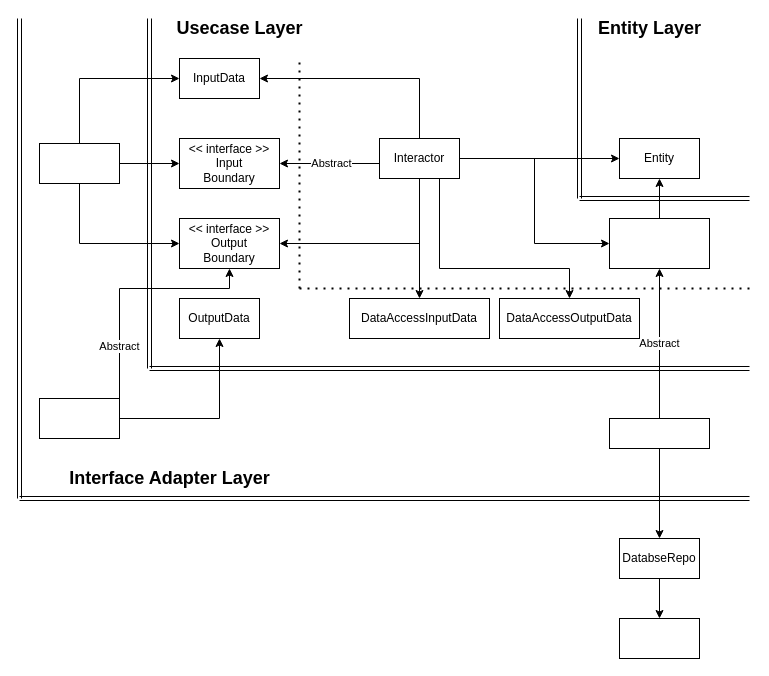
Some shapes in this 769 by 676 pixel diagram are drawn without their labels. Each missing label, with the centre of its shape:
"<< interface >> Data Access Interface" goes at (x=659, y=243).
"Database" goes at (x=659, y=638).
"Presenter" goes at (x=79, y=418).
"Repo" goes at (x=659, y=433).
"View" goes at (x=79, y=163).
